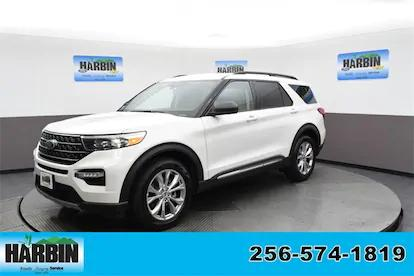Ford Explorer: (32, 71, 327, 231)
